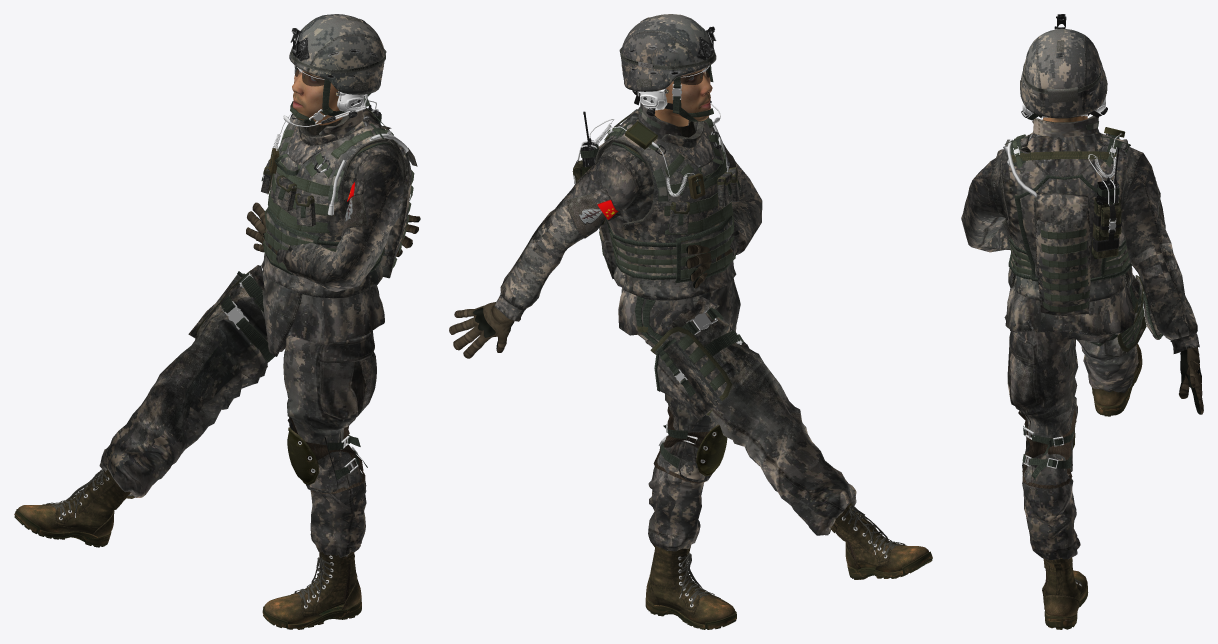
The picture shows the model from 3 angles, left to right: view 1: azimuth 30°, elevation 25°; view 2: azimuth 150°, elevation 25°; view 3: azimuth 270°, elevation 25°; orthographic projection.
Parts seen in each view (by area): view 1: 踏步; view 2: 踏步; view 3: 踏步.
Boxes of the visible parts, box(x1,y1,x2,y2) form: 踏步: box(14, 14, 420, 629); 踏步: box(449, 14, 932, 629); 踏步: box(961, 14, 1203, 629).
Bounding box in the file's own units: 140 × 180 × 67.62.
Materials: 21 (15 with a texture image).
